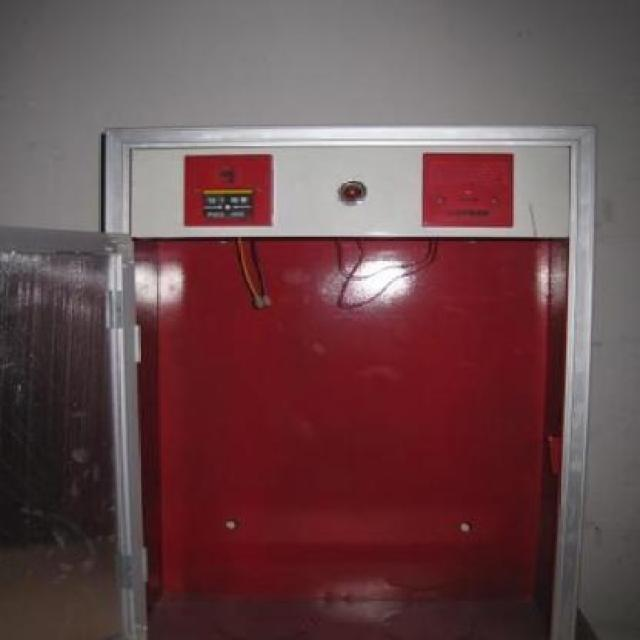firehydrant: (0, 121, 598, 640)
